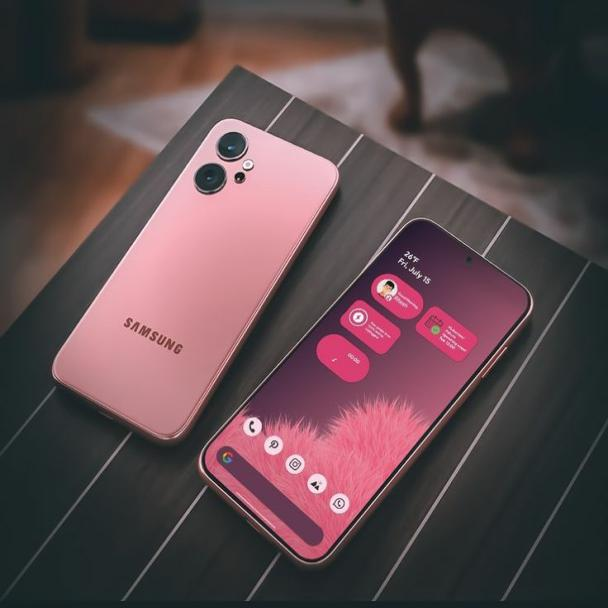Handphone: (188, 208, 545, 584), (40, 111, 349, 459)
